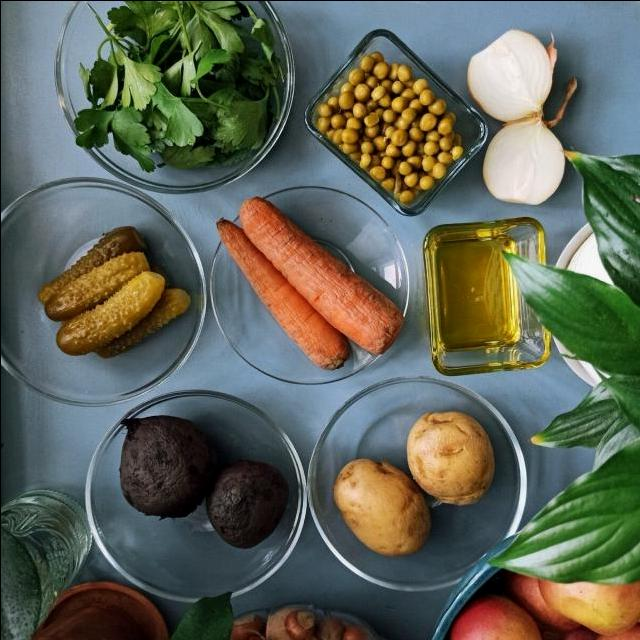carrot: (326, 277, 406, 355), (238, 197, 313, 278)
cucumber: (43, 234, 186, 362)
onion: (469, 29, 555, 116), (488, 117, 565, 206)
potato: (331, 454, 432, 554), (410, 416, 486, 502)
